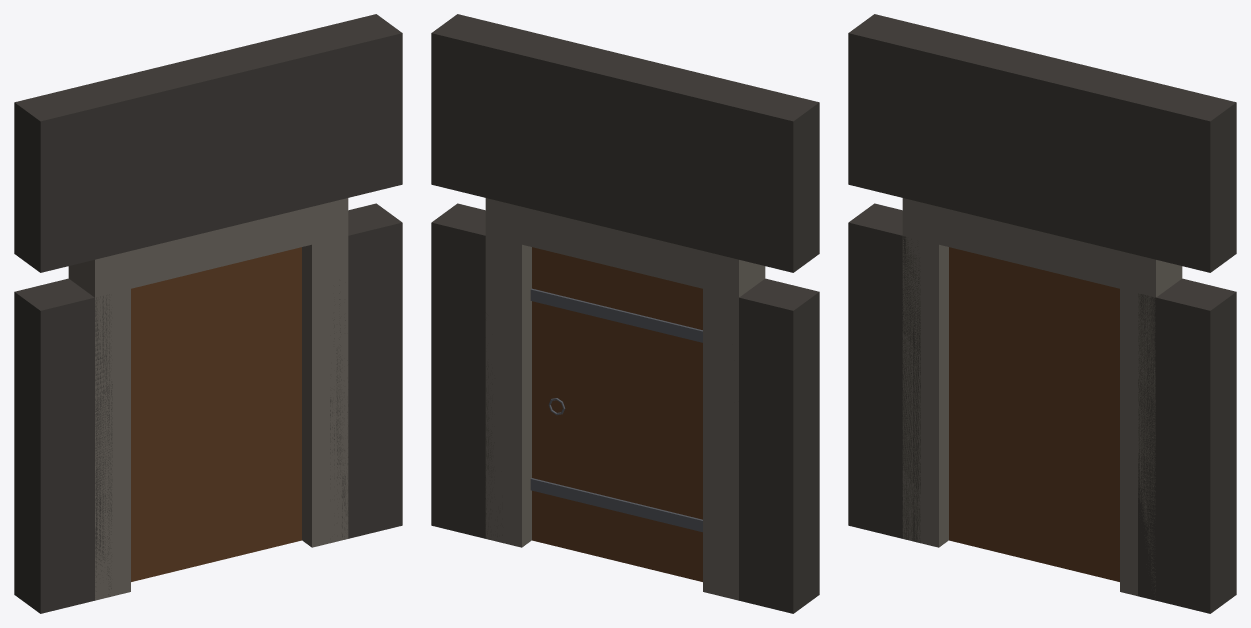
Rendered from door.glb.
The picture shows the model from 3 angles, left to right: view 1: azimuth 30°, elevation 25°; view 2: azimuth 150°, elevation 25°; view 3: azimuth 330°, elevation 25°; orthographic projection.
Parts seen in each view (by area): view 1: frame, leaf; view 2: frame, leaf; view 3: frame, leaf.
Boxes of the visible parts, box(x1,y1,x2,y2) form: frame: box(14, 14, 402, 613); leaf: box(131, 247, 301, 581); frame: box(431, 14, 819, 613); leaf: box(530, 247, 702, 581); frame: box(848, 14, 1236, 613); leaf: box(949, 247, 1119, 581).
Size of the model in its own units: 4 by 5.2 by 0.5.
